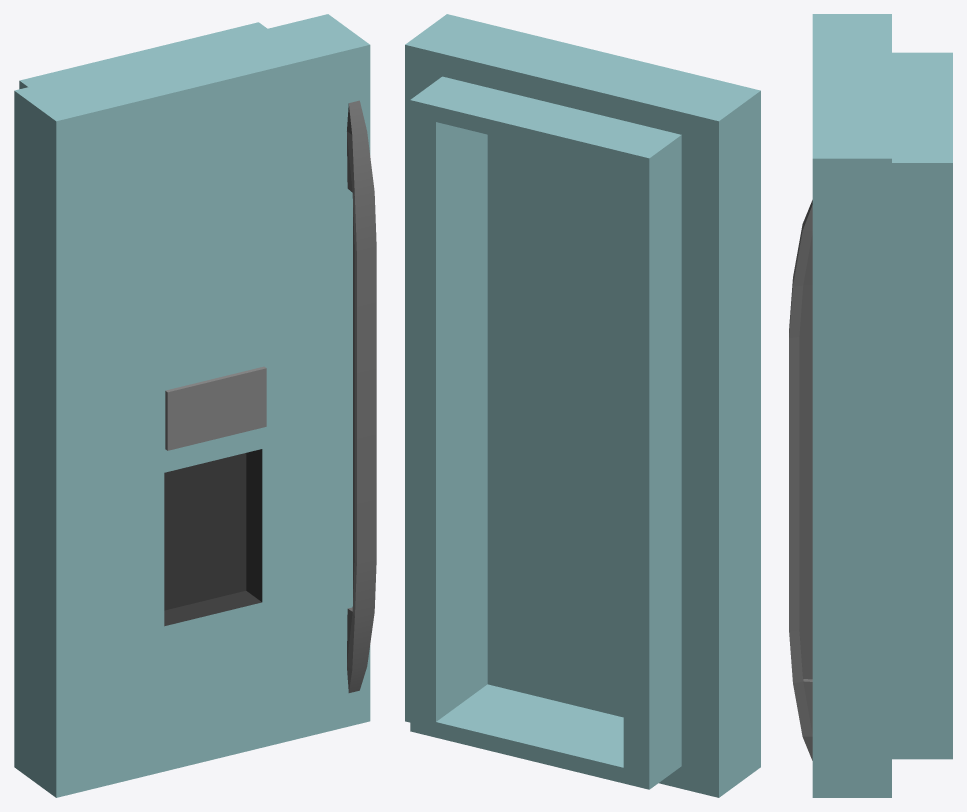
File: Itr_Obj_Fridge1_Top_Door_Left_05.FBX
3 views of the same model, side by side, from view 1: azimuth 30°, elevation 25°; view 2: azimuth 150°, elevation 25°; view 3: azimuth 270°, elevation 25° (orthographic). The views are drawn at different scales.
Parts seen in each view (by area): view 1: Itr_Obj_Fridge1_Top_Door_Left_05; view 2: Itr_Obj_Fridge1_Top_Door_Left_05; view 3: Itr_Obj_Fridge1_Top_Door_Left_05.
Boxes of the visible parts, x1,y1,x2,y2 form: Itr_Obj_Fridge1_Top_Door_Left_05: [14, 14, 376, 797]; Itr_Obj_Fridge1_Top_Door_Left_05: [405, 14, 760, 797]; Itr_Obj_Fridge1_Top_Door_Left_05: [789, 14, 952, 797].
Size of the model in its own units: 22.45 by 46.23 by 10.74.
